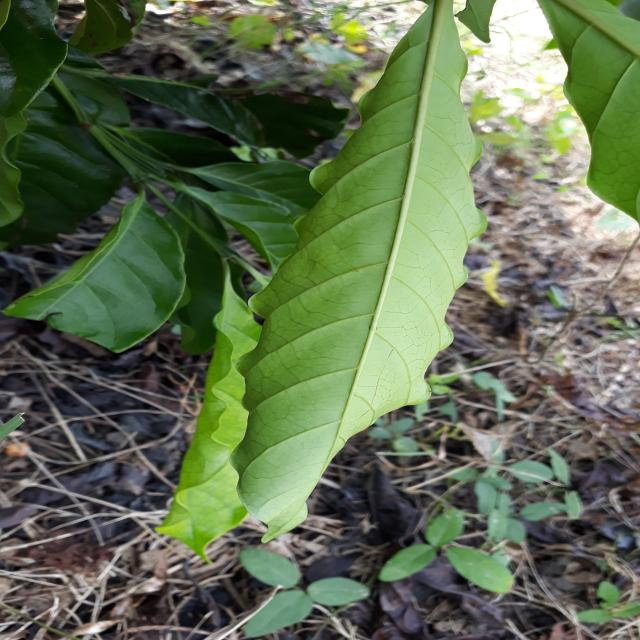Sanas: (231, 0, 487, 541)
